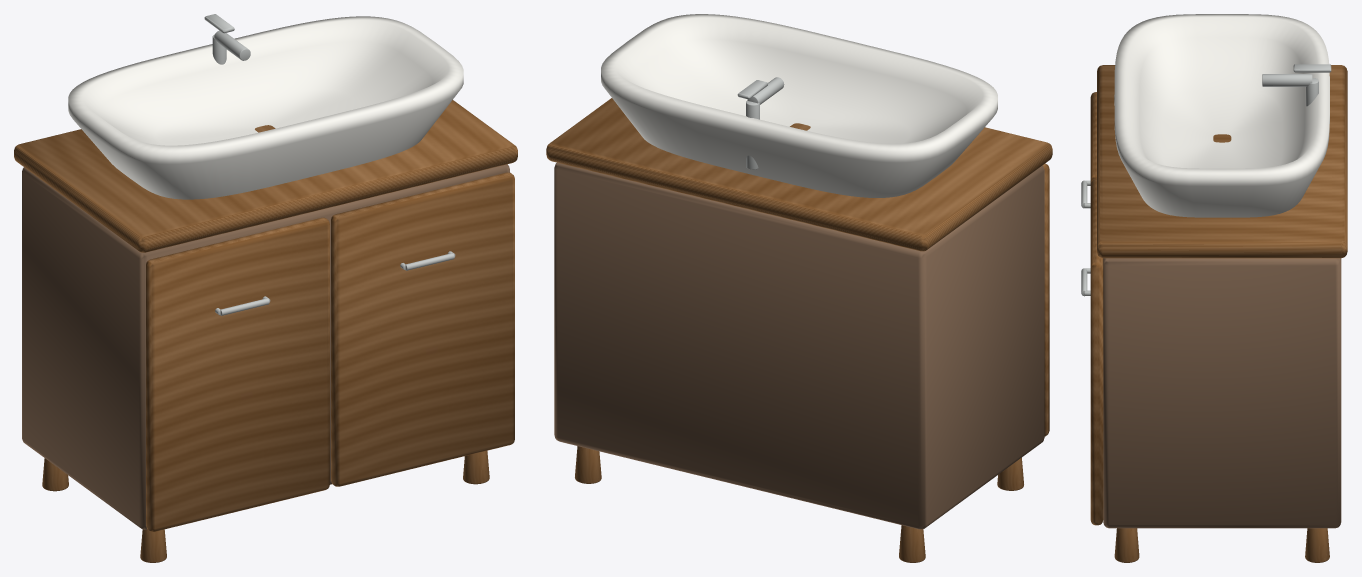
The model's file is sink.glb.
3 views of the same model, side by side, from view 1: azimuth 30°, elevation 25°; view 2: azimuth 150°, elevation 25°; view 3: azimuth 270°, elevation 25° (orthographic). The views are drawn at different scales.
Visible parts, largest first — view 1: sink-mesh; view 2: sink-mesh; view 3: sink-mesh.
Boxes of the visible parts, x1=… form: sink-mesh: x1=14, y1=14, x2=517, y2=562; sink-mesh: x1=546, y1=14, x2=1052, y2=562; sink-mesh: x1=1081, y1=14, x2=1347, y2=562.
Bounding box in the file's own units: 0.8 × 0.86 × 0.5.
4 materials, 1 textured.
